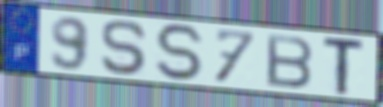7: (212, 27, 257, 85)
9: (48, 15, 91, 71)
B: (265, 32, 316, 90)
S: (152, 21, 208, 83), (99, 18, 150, 78)
T: (321, 37, 368, 96)
